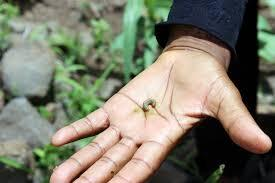fallarmy_worm: (139, 96, 158, 114)
